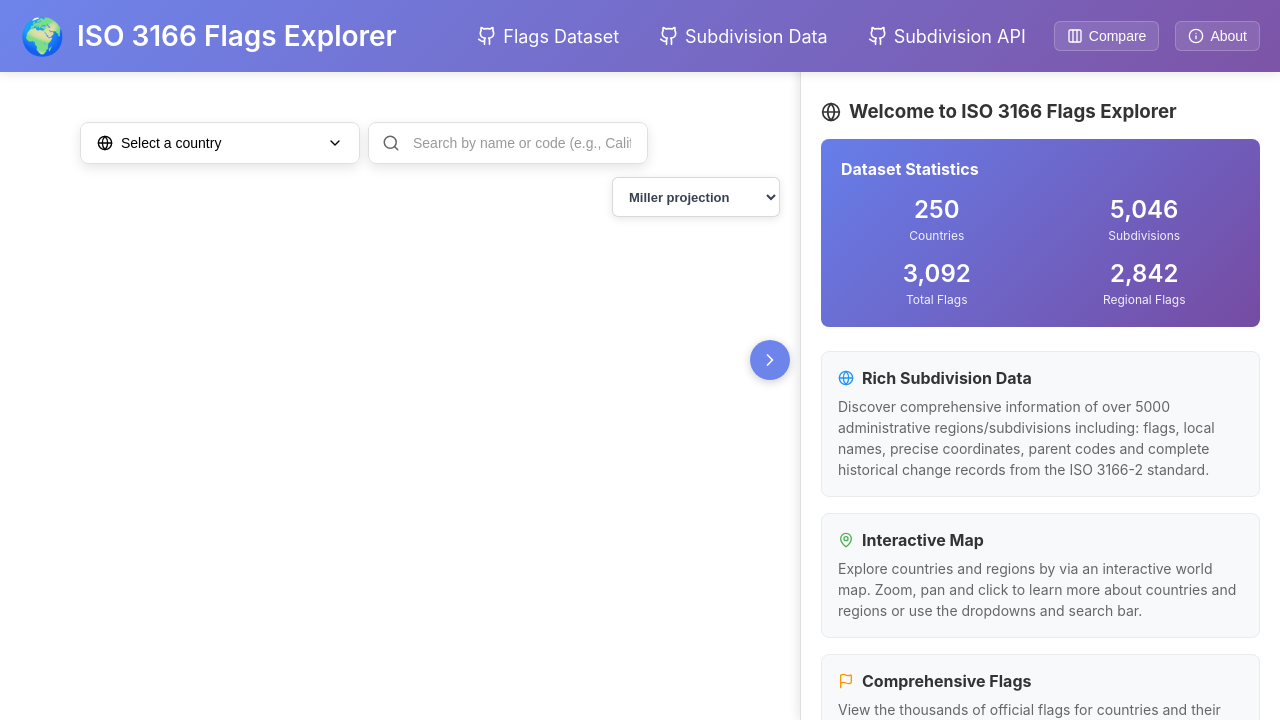
Test: Country Selection Workflow › should filter countries by typing in the search box
The width and height of the screenshot is (1280, 720).
Click the button with test id "country-dropdown-trigger": {"x": 220, "y": 143} [80,122,360,164]
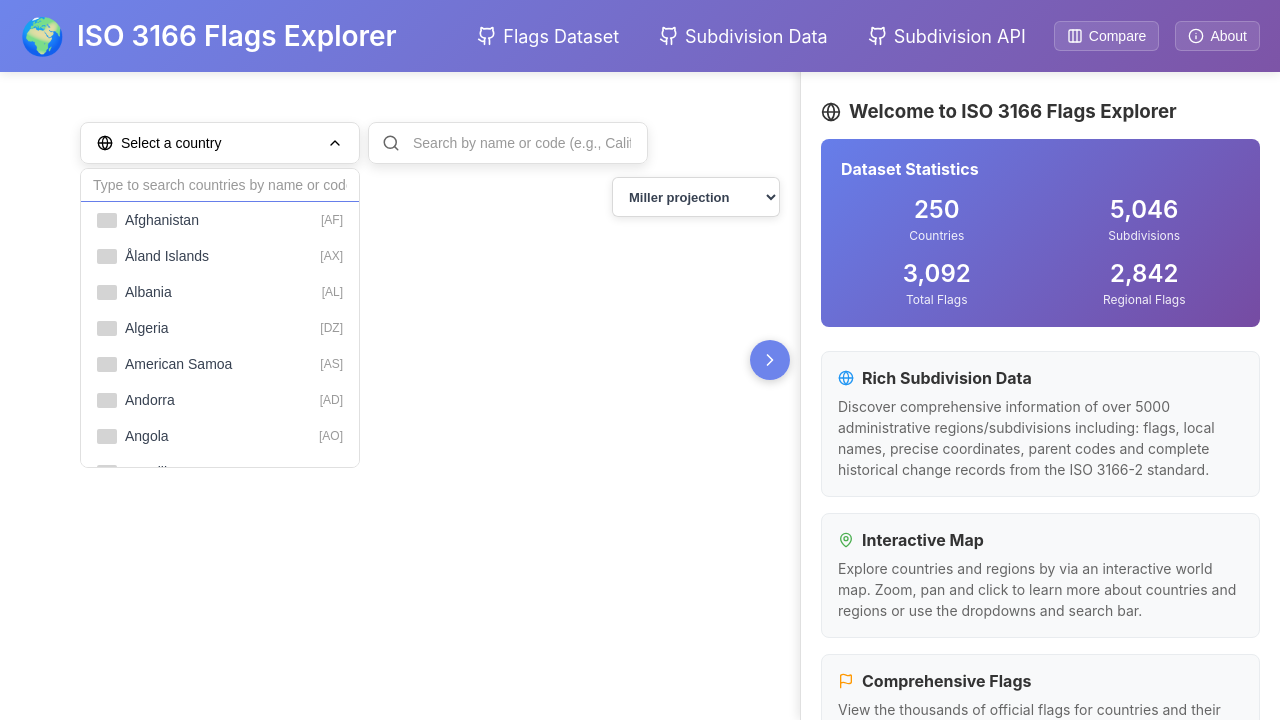
In the field with test id "country-dropdown-search": {"x": 220, "y": 186} [81,169,359,202], type "Germany"
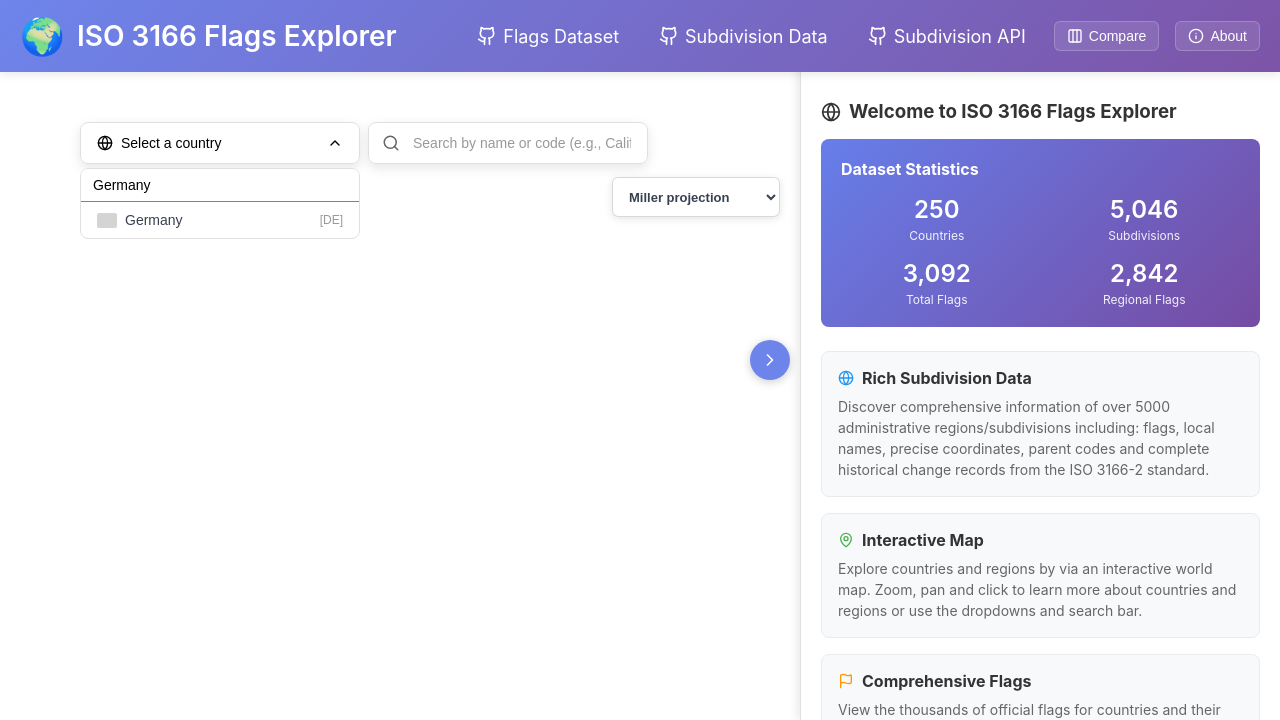
Check: the option with test id "country-option-DE" is shown, box [81,202,359,238]
